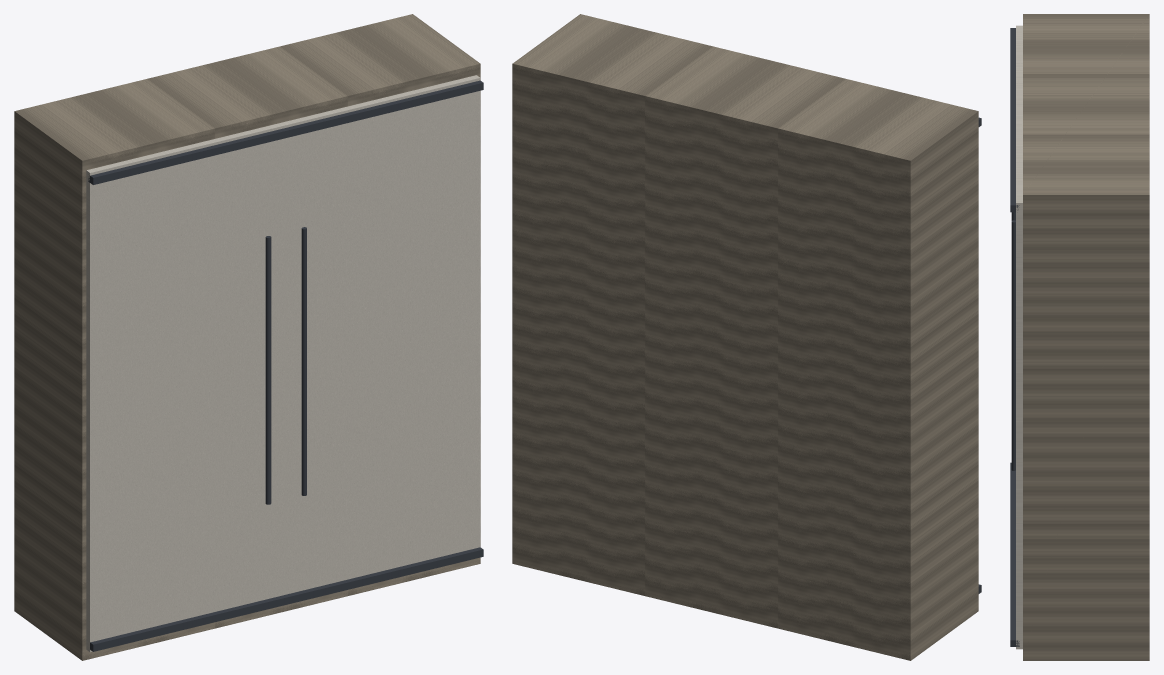
File: wardrobe-sliding-2000_lod1.glb
3 views of the same model, side by side, from view 1: azimuth 30°, elevation 25°; view 2: azimuth 150°, elevation 25°; view 3: azimuth 270°, elevation 25° (orthographic). The views are drawn at different scales.
Visible parts, largest first — view 1: door_1, door_2, body, top_track, bottom_track, handle_1, handle_2; view 2: body; view 3: body, door_2, handle_2, top_track, bottom_track, door_1.
Part boxes in pixels (x1,y1,x2,y2): door_1: (86, 122, 285, 652); door_2: (282, 75, 480, 594); body: (14, 14, 480, 660); top_track: (88, 80, 483, 184); bottom_track: (90, 547, 483, 651); handle_1: (265, 236, 271, 504); handle_2: (301, 227, 306, 495); body: (512, 14, 978, 660); body: (1023, 14, 1149, 660); door_2: (1016, 114, 1022, 649); handle_2: (1011, 220, 1015, 470); top_track: (1010, 28, 1019, 212); bottom_track: (1010, 462, 1019, 646); door_1: (1016, 25, 1022, 114).
Size of the model in its own units: 2 by 2.4 by 0.65.
Materials: 3 (3 with a texture image).
